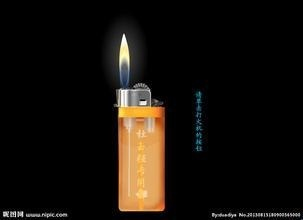fire: (117, 29, 131, 85)
